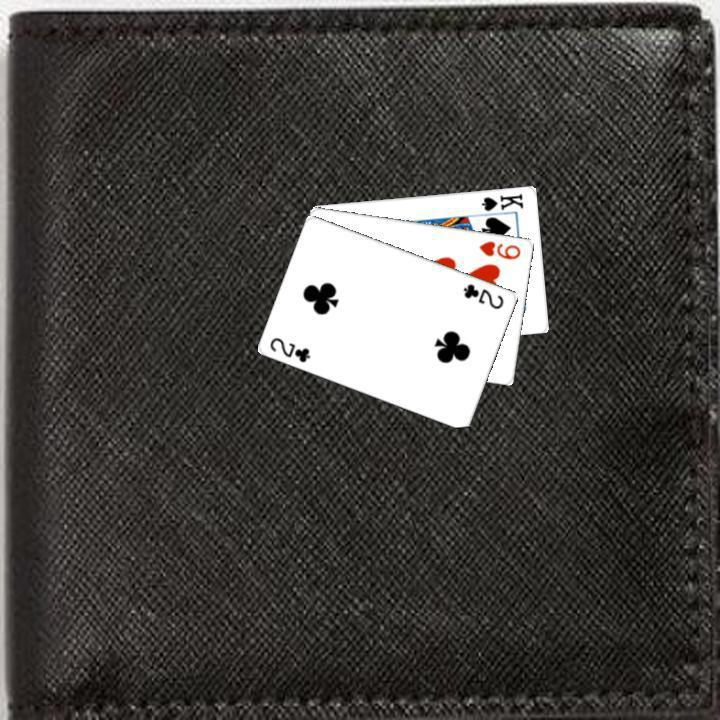2: (459, 279, 506, 311), (266, 333, 313, 364)
9: (475, 236, 523, 261)
K: (477, 189, 526, 212)
